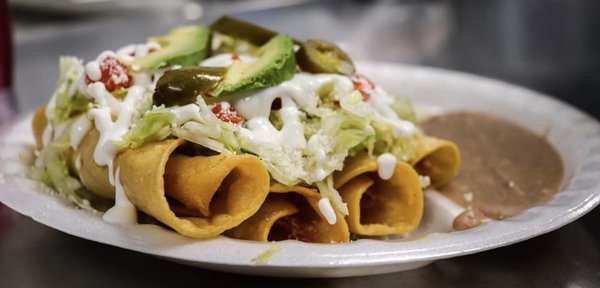soup: (11, 15, 461, 244)
